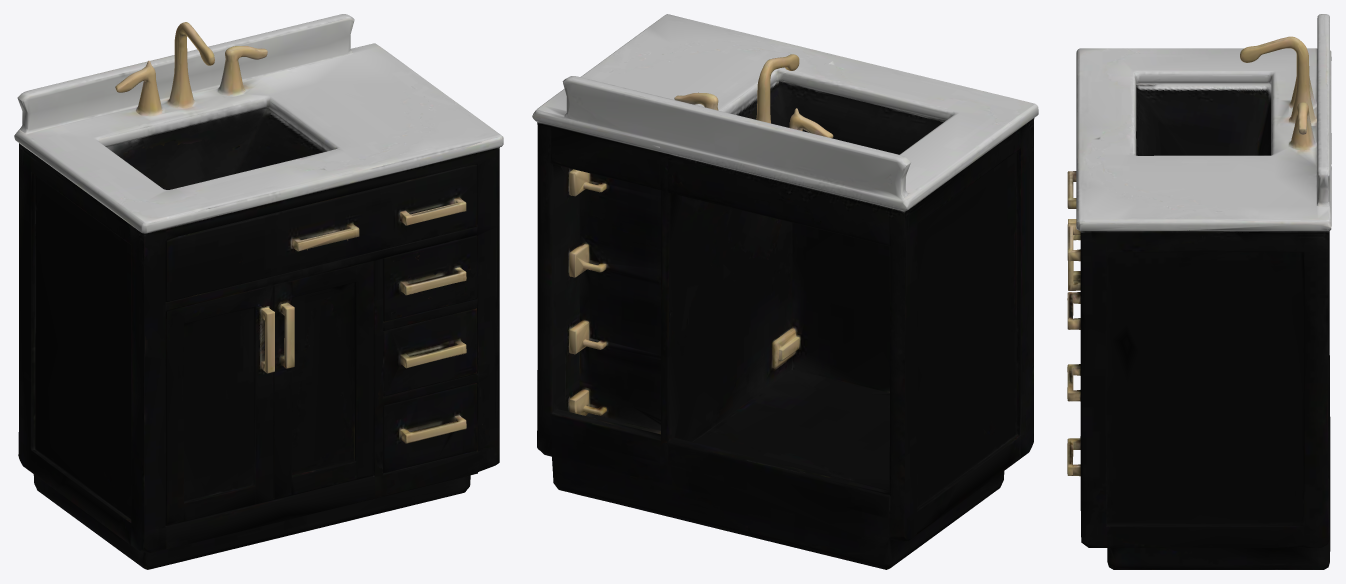
3 renders of one model, left to right at view 1: azimuth 30°, elevation 25°; view 2: azimuth 150°, elevation 25°; view 3: azimuth 270°, elevation 25°, orthographic. The views are drawn at different scales.
Parts seen in each view (by area): view 1: material; view 2: material; view 3: material.
Boxes of the visible parts, x1=… form: material: x1=14, y1=14, x2=503, y2=569; material: x1=532, y1=14, x2=1038, y2=569; material: x1=1067, y1=14, x2=1331, y2=569.
Size of the model in its own units: 0.756 by 0.8933 by 0.4827.
Materials: 1 (1 with a texture image).
